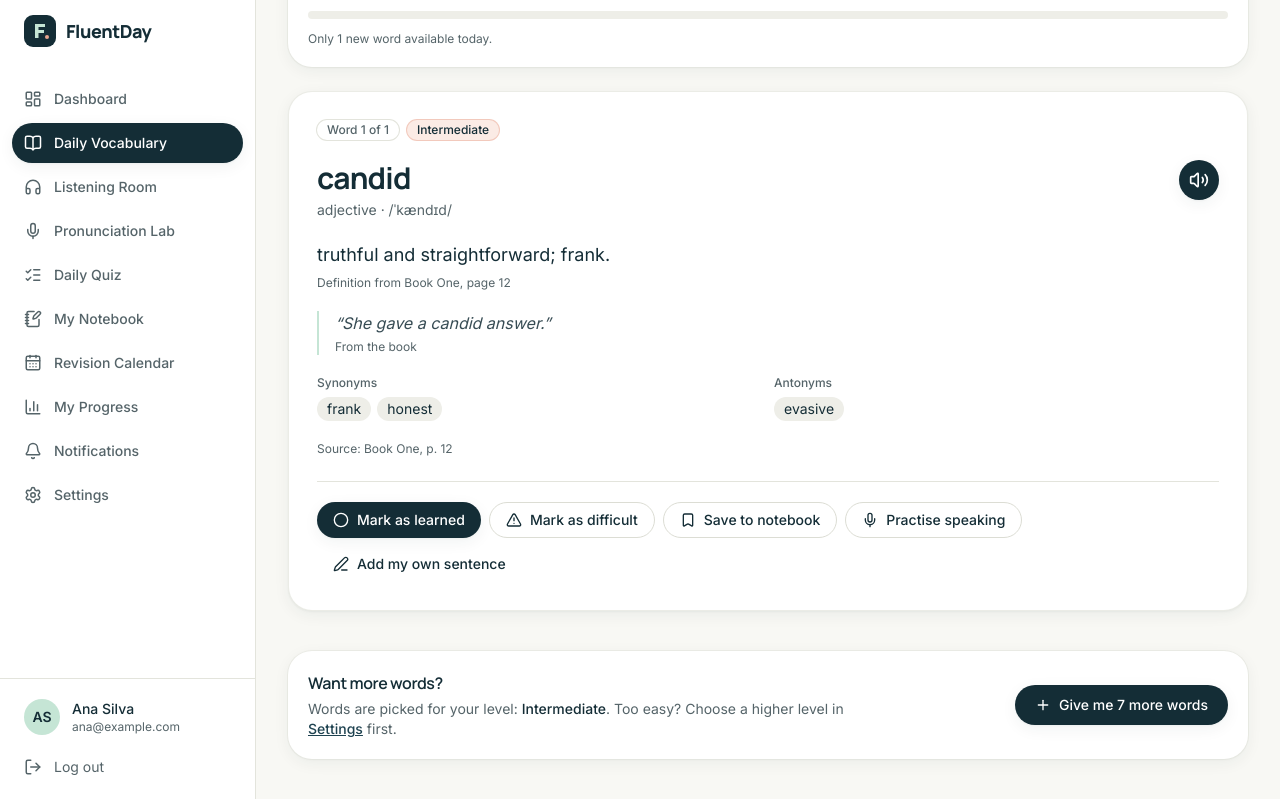
daily vocabulary › explains when no more words can be added today
(page scrolled)
Click the button "Give me 7 more words": point(1122, 705) [1015,685,1228,725]
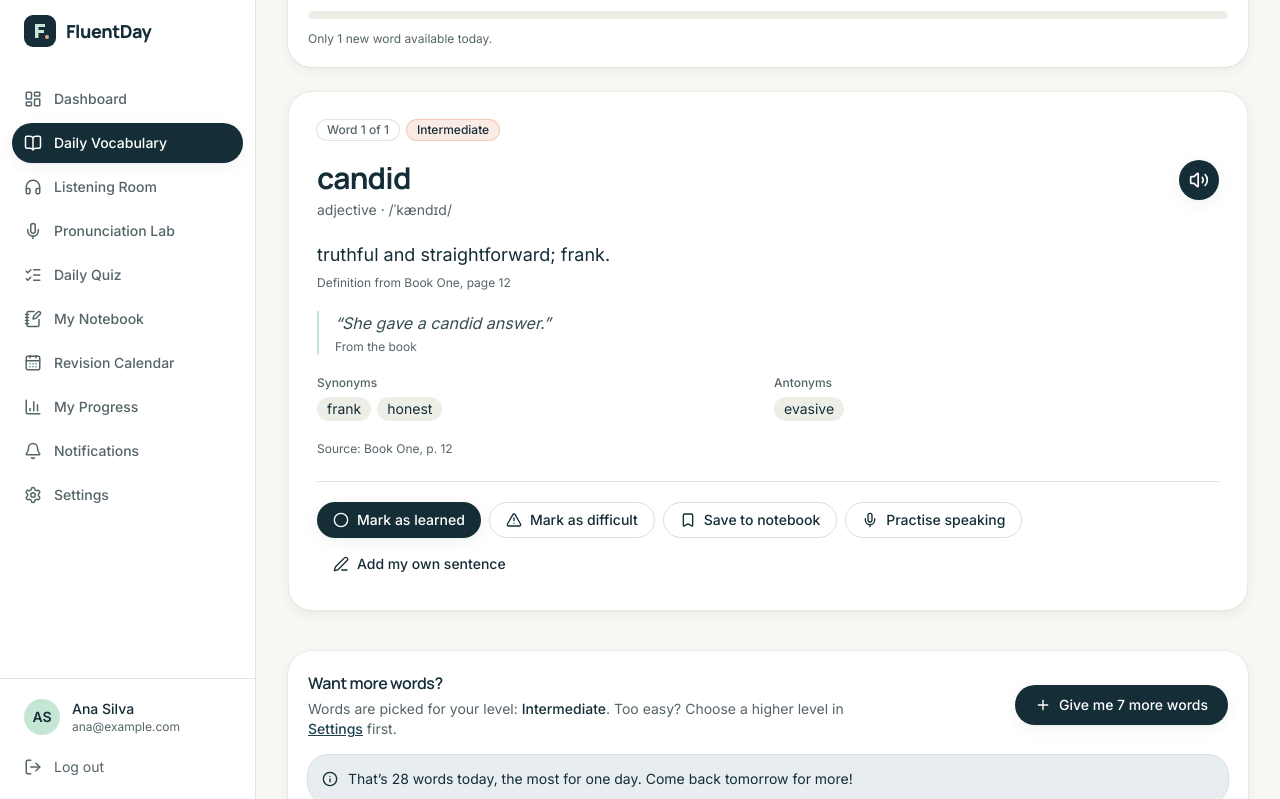
Now the text "Come back tomorrow" is shown, box [348,770,853,787]
